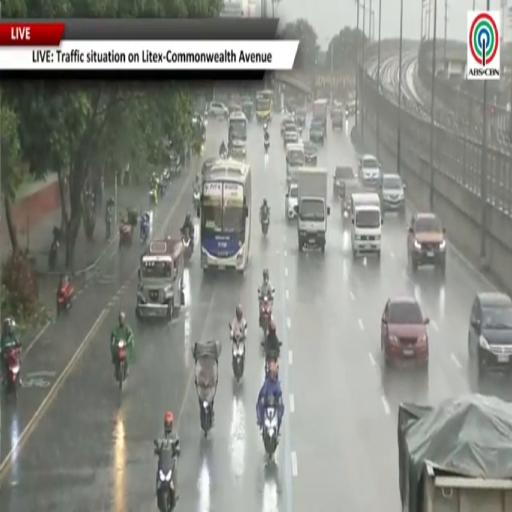bus: (197, 158, 251, 271), (228, 112, 247, 159), (255, 90, 273, 122)
car: (468, 292, 511, 375), (381, 296, 429, 367), (408, 213, 446, 273), (380, 173, 405, 214), (358, 155, 381, 187), (333, 166, 355, 195), (285, 182, 297, 219), (201, 157, 218, 182), (283, 123, 299, 147), (309, 120, 324, 145), (303, 141, 317, 166), (209, 102, 229, 118), (280, 116, 295, 136), (331, 107, 344, 130), (295, 107, 306, 126), (228, 103, 242, 115)
jeepney: (136, 237, 184, 321)
motorcycle: (156, 451, 176, 511), (262, 406, 278, 458), (230, 325, 245, 380), (5, 347, 20, 397), (48, 227, 62, 270), (57, 281, 74, 316), (116, 340, 127, 391), (260, 296, 272, 337), (200, 400, 212, 437), (265, 350, 279, 378), (182, 229, 193, 262), (48, 238, 59, 270), (119, 222, 133, 247), (141, 220, 149, 245), (106, 208, 112, 239), (149, 187, 158, 205), (193, 189, 200, 211), (261, 216, 269, 235), (162, 168, 170, 183), (159, 180, 166, 197), (264, 139, 269, 153), (220, 151, 227, 159)
tricycle: (119, 210, 139, 247)
truck: (399, 394, 511, 511), (295, 167, 330, 252)
